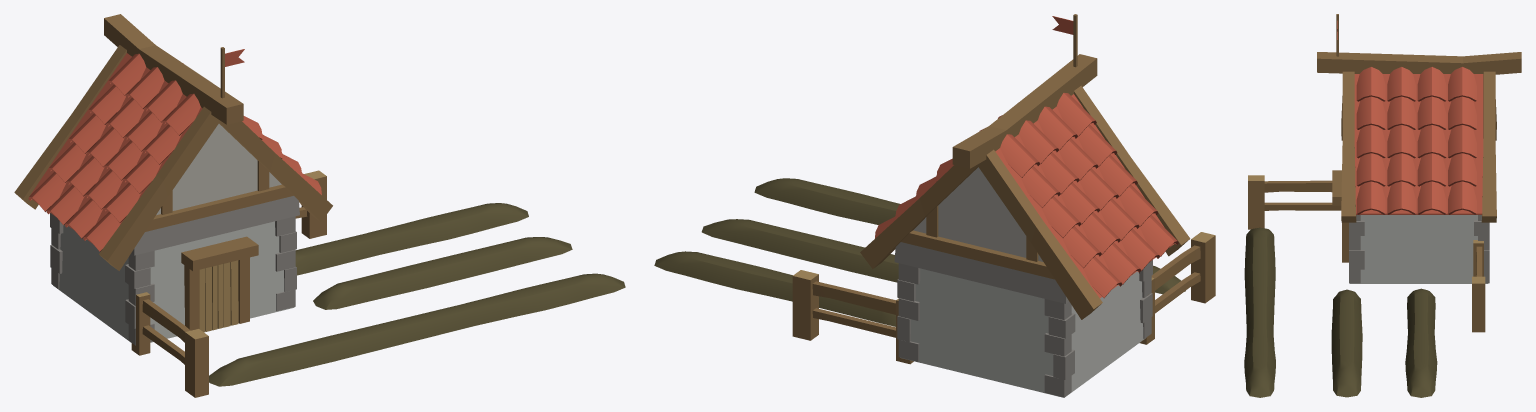
File: Farm_SecondAge_Level1.glb
The picture shows the model from 3 angles, left to right: view 1: azimuth 30°, elevation 25°; view 2: azimuth 150°, elevation 25°; view 3: azimuth 270°, elevation 25°; orthographic projection. The views are drawn at different scales.
Visible parts, largest first — view 1: Farm_SecondAge_Level1; view 2: Farm_SecondAge_Level1; view 3: Farm_SecondAge_Level1.
Part boxes in pixels (left/top/right/bottom): Farm_SecondAge_Level1: left=14, top=14, right=625, bottom=397; Farm_SecondAge_Level1: left=654, top=14, right=1215, bottom=397; Farm_SecondAge_Level1: left=1244, top=14, right=1521, bottom=397.
Size of the model in its own units: 1.81 by 1.07 by 1.11.
Materials: 1 (1 with a texture image).
